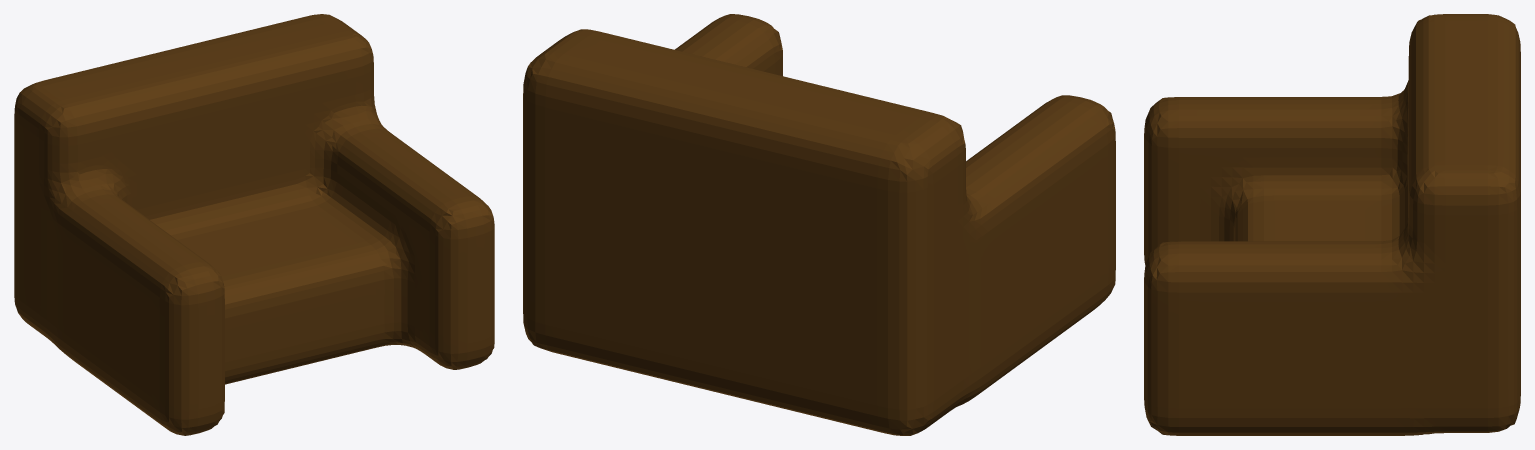
Rendered from SOFA.fbx.
The picture shows the model from 3 angles, left to right: view 1: azimuth 30°, elevation 25°; view 2: azimuth 150°, elevation 25°; view 3: azimuth 270°, elevation 25°; orthographic projection. The views are drawn at different scales.
Visible parts, largest first — view 1: SOFA; view 2: SOFA; view 3: SOFA.
Boxes of the visible parts, box(x1,y1,x2,y2) form: SOFA: box(14, 14, 494, 435); SOFA: box(523, 14, 1115, 435); SOFA: box(1144, 14, 1520, 435).
Size of the model in its own units: 284 by 200 by 258.
